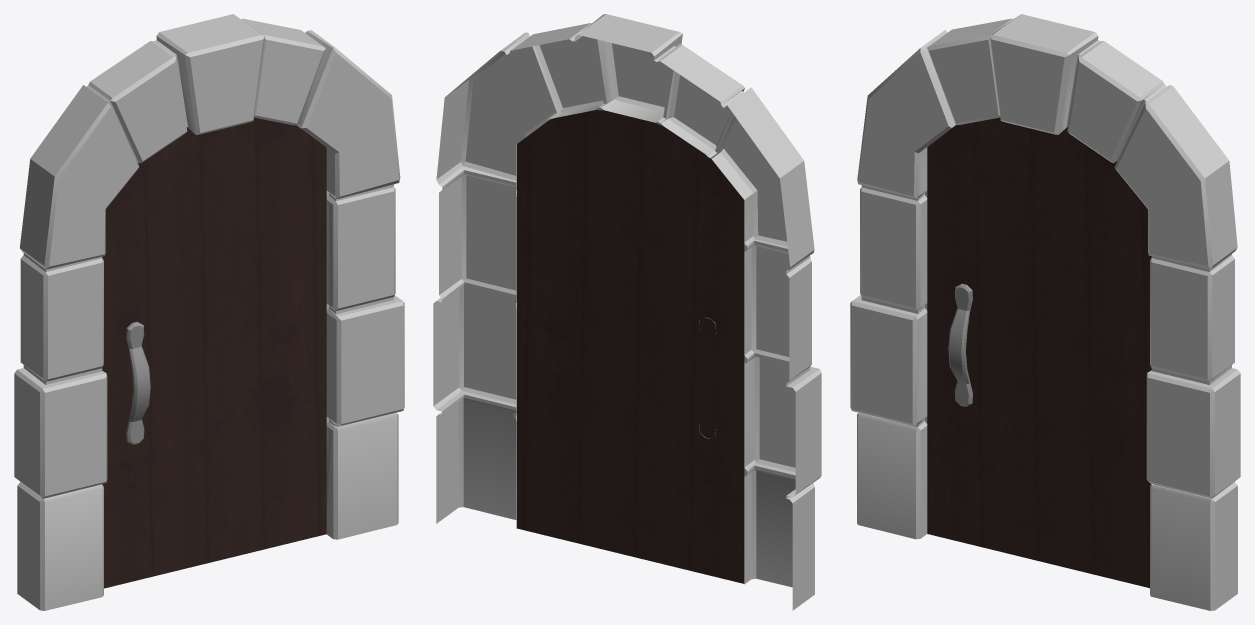
The model's file is Door.FBX.
3 renders of one model, left to right at view 1: azimuth 30°, elevation 25°; view 2: azimuth 150°, elevation 25°; view 3: azimuth 330°, elevation 25°, orthographic.
Parts seen in each view (by area): view 1: Plane001; view 2: Plane001; view 3: Plane001.
Boxes of the visible parts, <box> form: Plane001: <box>14,14,404,610</box>; Plane001: <box>433,14,821,610</box>; Plane001: <box>850,14,1240,610</box>.
Bounding box in the file's own units: 241 × 333 × 35.05.
